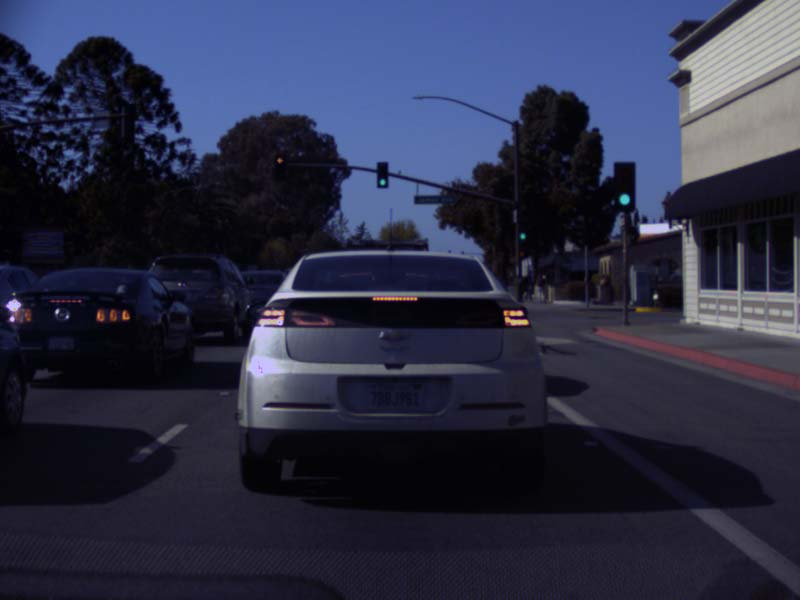Green: (615, 164, 634, 211), (517, 203, 530, 243), (377, 160, 388, 189)
Red: (273, 152, 285, 179)
